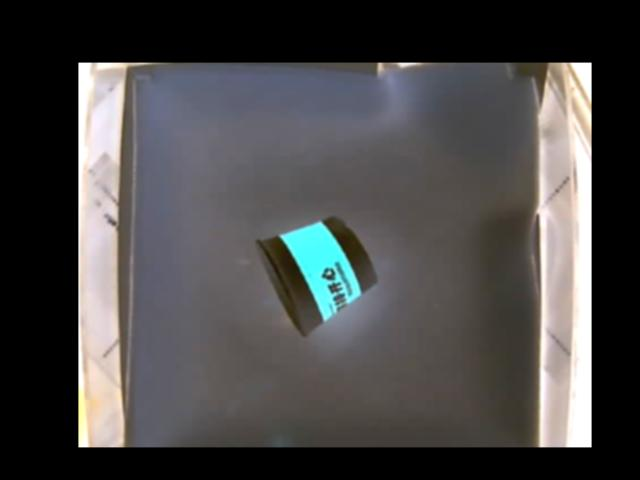Cup: (255, 213, 376, 339)
